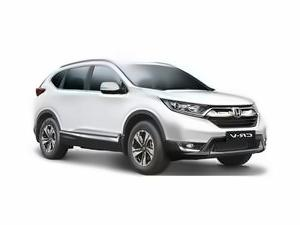Car hood: (141, 87, 255, 108)
Driver-s door - -F-R-: (88, 61, 120, 146)
Fender - -F-R-: (119, 82, 163, 141)
Fender - -R-R-: (38, 88, 55, 117)
Front bumper: (156, 114, 270, 165)
Headlight - -L-: (248, 101, 261, 117)
Headlight - -R-: (158, 96, 213, 120)
Passenger-s door - -R-R-: (55, 61, 87, 145)
Rear bumper: (31, 111, 42, 143)
Rear light - -R-: (33, 71, 50, 99)
Side bumper - -R-: (57, 127, 127, 155), (98, 80, 123, 96)
